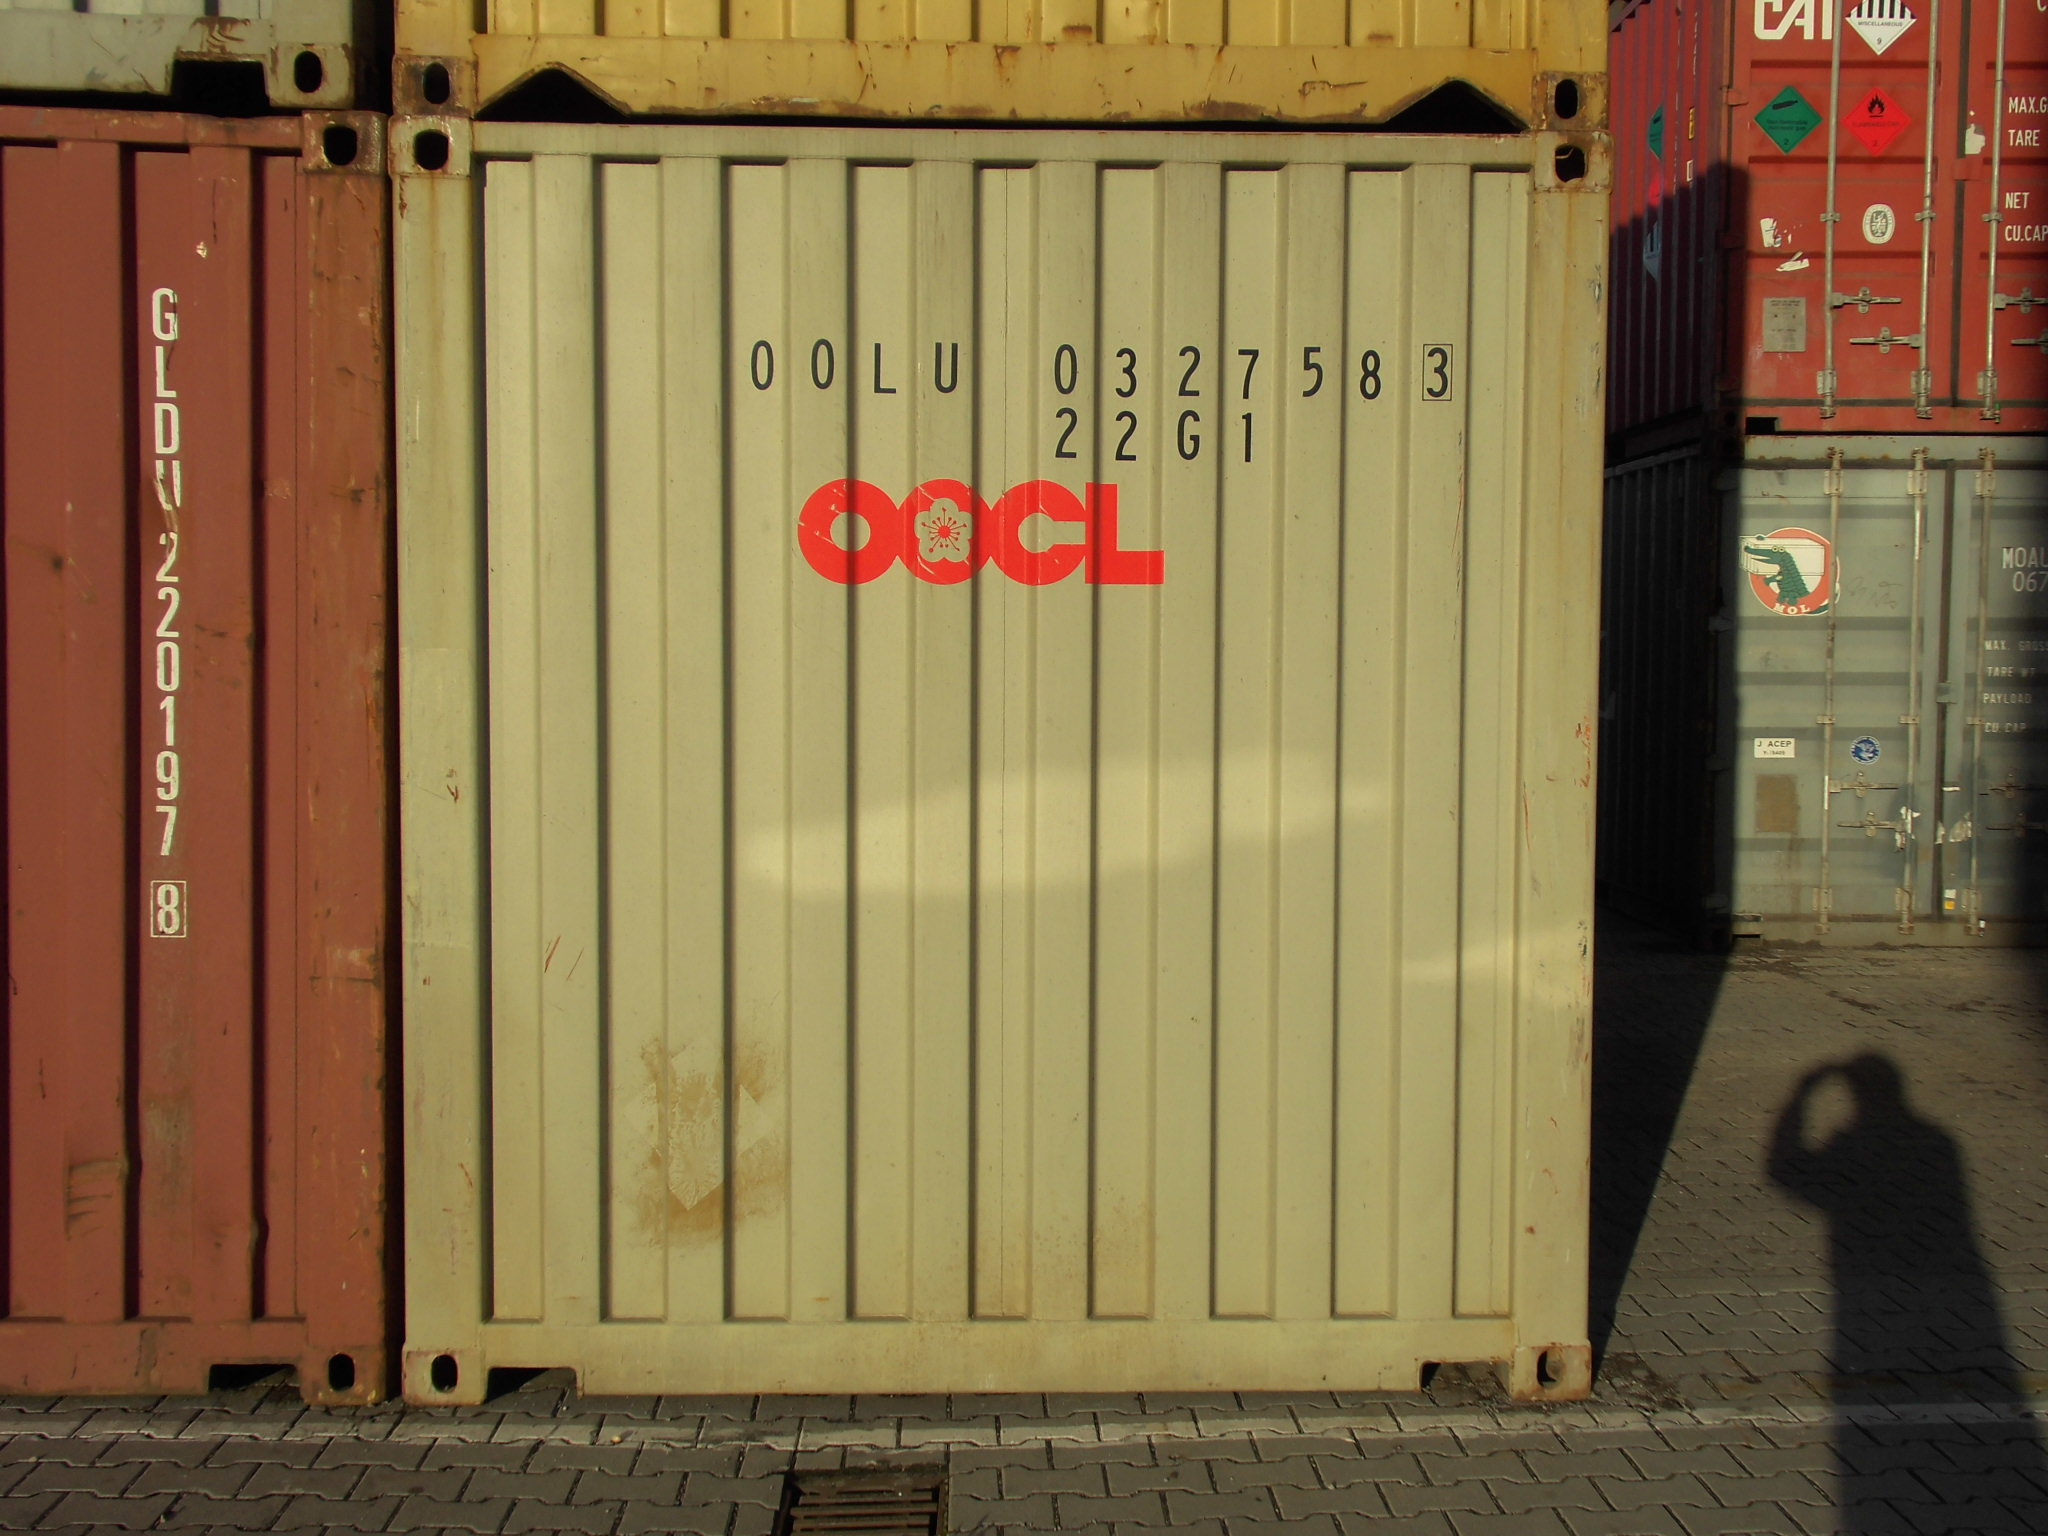container_no_door: (390, 102, 1609, 1412)
